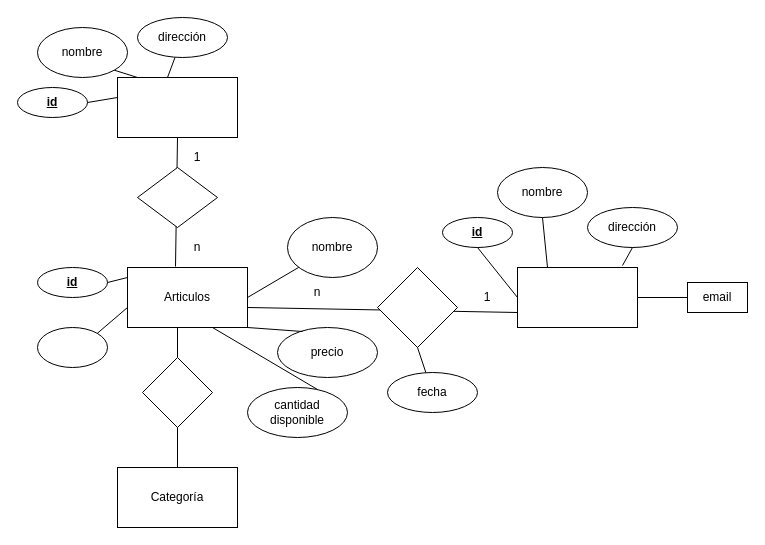
This 765x545 diagram has some shape labels left out. Here are the shapes that lost their labels. From the top down, the box of each, then its label:
(116, 76, 238, 138): Proveedores
(136, 166, 218, 228): provee
(376, 266, 458, 348): compra
(516, 266, 638, 328): Clientes
(36, 326, 108, 368): descripción
(142, 356, 212, 428): pertenece
